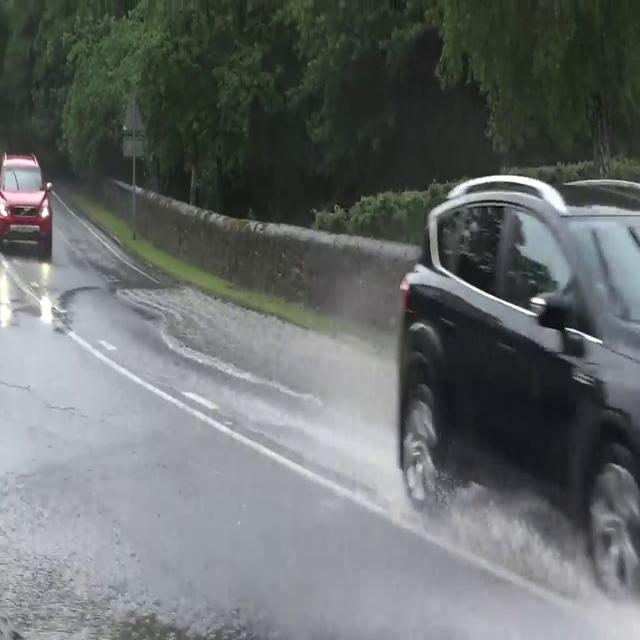license-plate-annotation: (8, 223, 41, 235)
